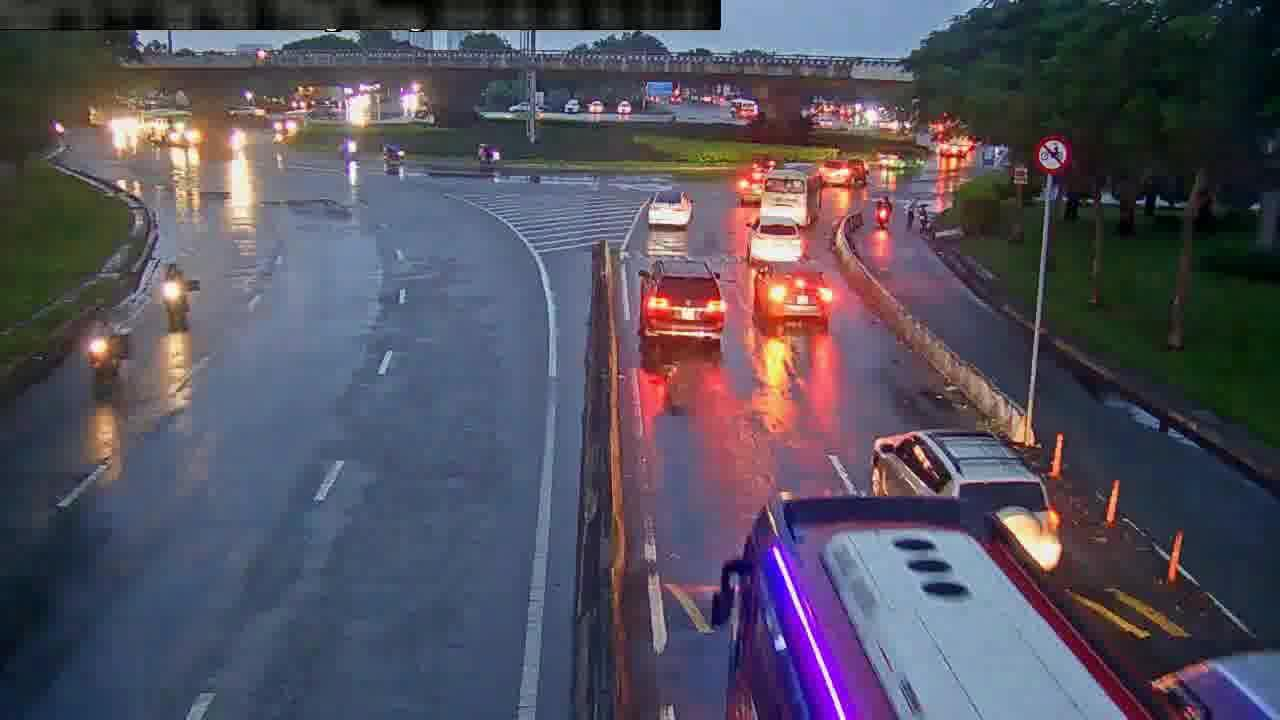car: (874, 427, 1062, 569), (638, 258, 728, 352), (752, 259, 830, 331), (747, 212, 808, 266), (648, 182, 697, 230), (817, 157, 872, 185)
motorbike: (83, 310, 131, 389), (156, 254, 202, 335), (876, 191, 893, 230)
passenger_car: (708, 489, 1142, 720), (760, 161, 824, 225)
